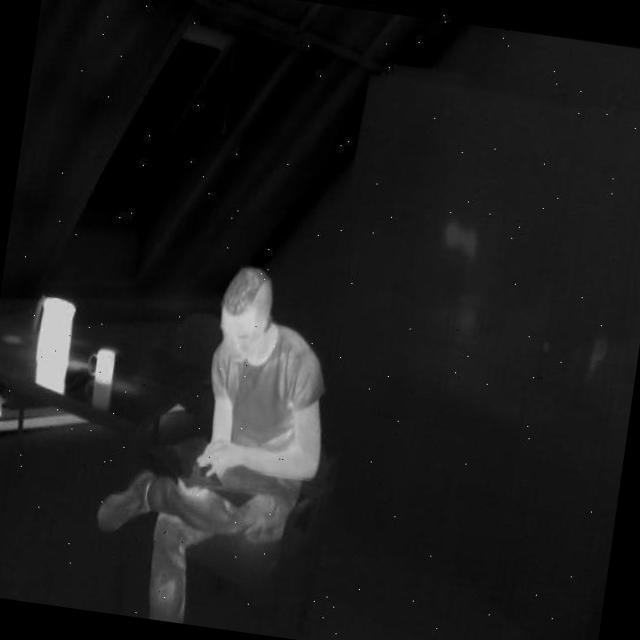person: (78, 245, 348, 640)
